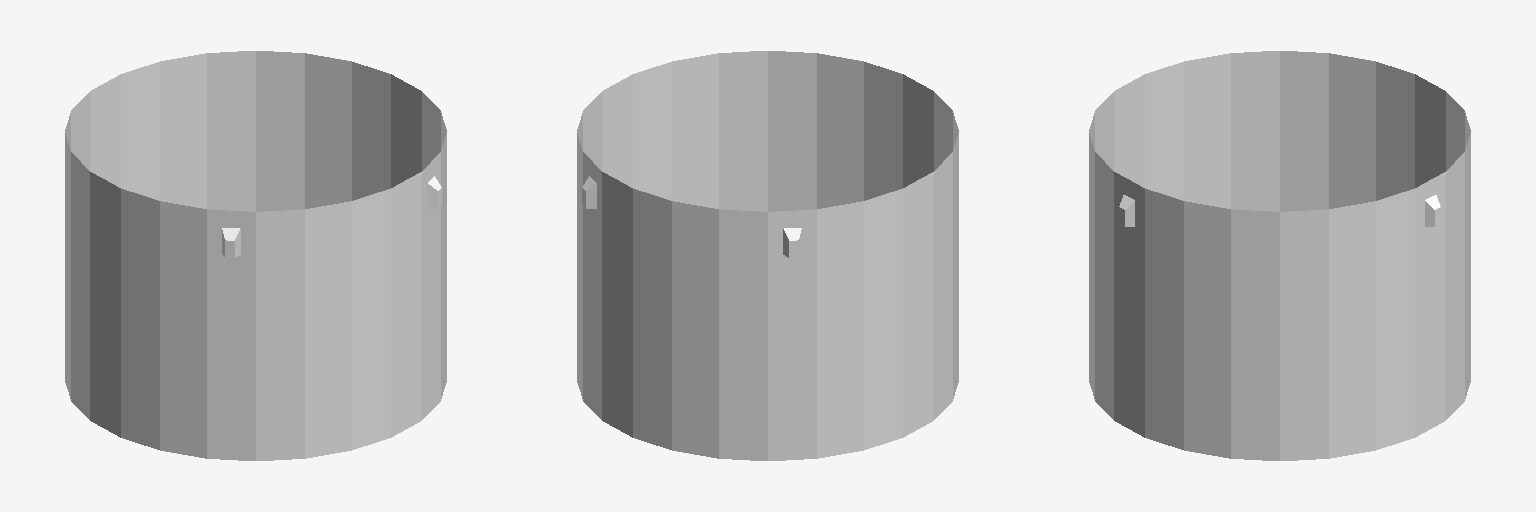
Rendered from HLV_1_Engine_1.obj.
The picture shows the model from 3 angles: view 1: azimuth 30°, elevation 25°; view 2: azimuth 150°, elevation 25°; view 3: azimuth 270°, elevation 25°; orthographic projection.
Visible parts, largest first — view 1: HLV_1_Engine_1; view 2: HLV_1_Engine_1; view 3: HLV_1_Engine_1.
Boxes of the visible parts, <box> form: HLV_1_Engine_1: <box>65,51,446,460</box>; HLV_1_Engine_1: <box>577,51,958,460</box>; HLV_1_Engine_1: <box>1089,51,1470,460</box>.
Bounding box in the file's own units: 2.5 × 1.8 × 2.5.